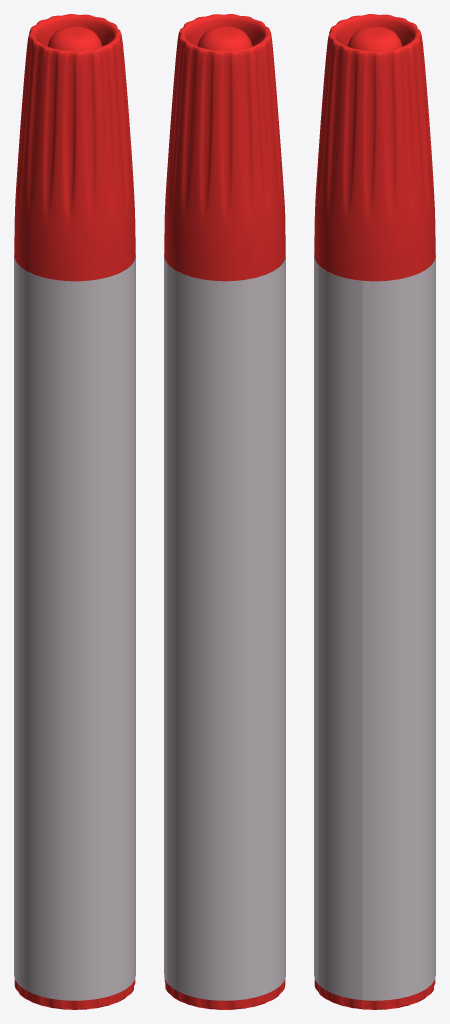
File: marker_red.fbx
The picture shows the model from 3 angles, left to right: view 1: azimuth 90°, elevation 25°; view 2: azimuth 210°, elevation 25°; view 3: azimuth 270°, elevation 25°; orthographic projection.
Visible parts, largest first — view 1: Cylinder, Cylinder.002; view 2: Cylinder, Cylinder.002; view 3: Cylinder.002, Cylinder.
Part boxes in pixels (x1,y1,x2,y2): Cylinder: (14,255,135,1000); Cylinder.002: (14,14,135,1009); Cylinder: (167,257,285,1000); Cylinder.002: (164,14,285,1009); Cylinder.002: (314,14,435,1009); Cylinder: (314,255,435,1000).
Bounding box in the file's own units: 19.82 × 171 × 19.82.
